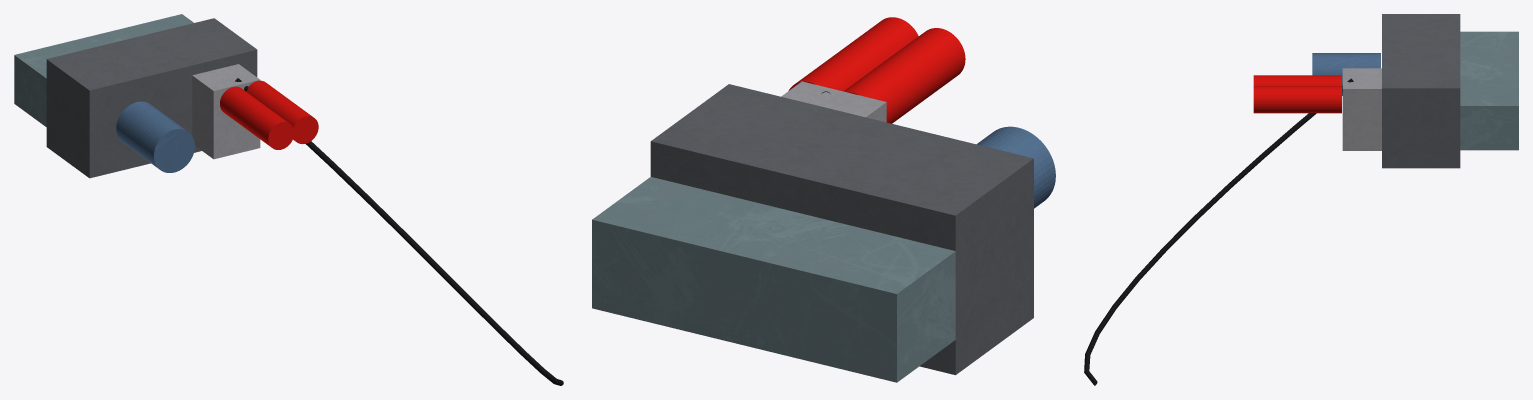
The model's file is hydraulic_unit.glb.
The picture shows the model from 3 angles, left to right: view 1: azimuth 30°, elevation 25°; view 2: azimuth 150°, elevation 25°; view 3: azimuth 270°, elevation 25°; orthographic projection. The views are drawn at different scales.
Visible parts, largest first — view 1: hydraulic_unit; view 2: hydraulic_unit; view 3: hydraulic_unit.
Part boxes in pixels (bbox=[...]): hydraulic_unit: bbox=[14, 14, 563, 385]; hydraulic_unit: bbox=[592, 17, 1055, 382]; hydraulic_unit: bbox=[1084, 14, 1518, 385].
Bounding box in the file's own units: 1.69 × 1.31 × 2.22.
6 materials, 4 textured.
